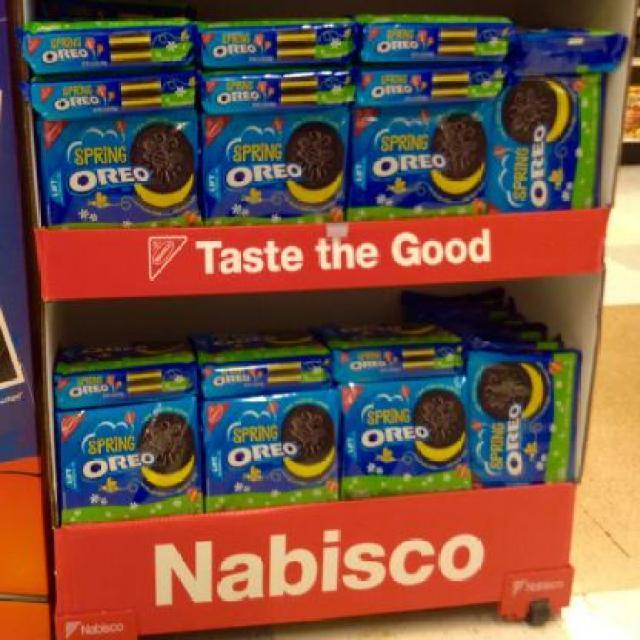Cookie: (128, 119, 198, 210), (284, 121, 347, 208), (427, 113, 490, 199), (498, 77, 577, 145), (138, 412, 199, 494), (473, 360, 550, 423), (278, 402, 336, 484), (410, 386, 468, 468)
